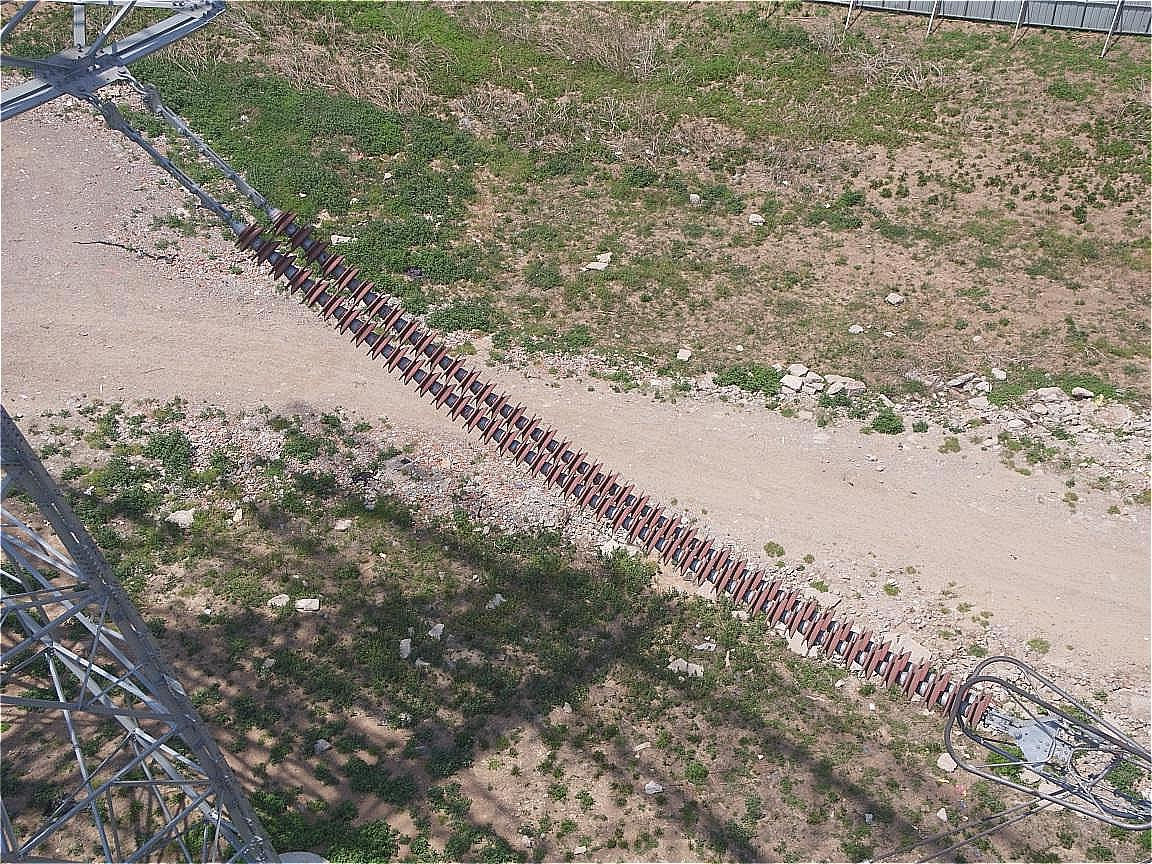insultor2: (227, 196, 1006, 724)
